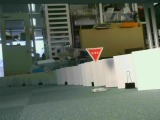stop: (84, 47, 105, 64)
